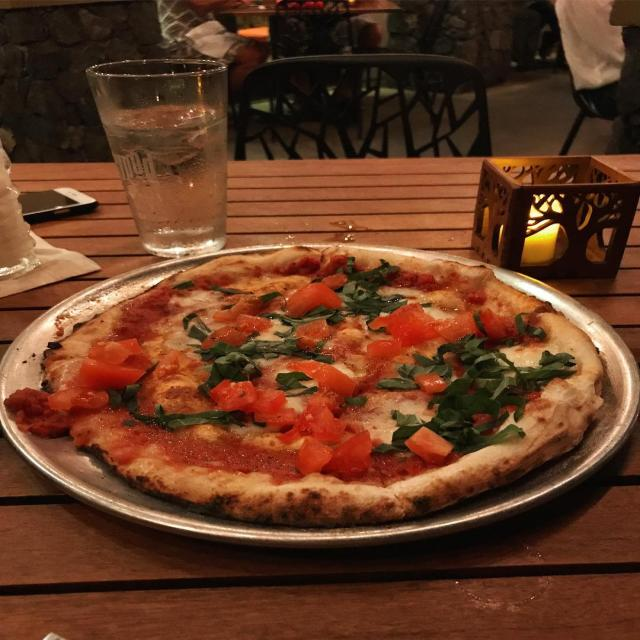pizza: (8, 245, 600, 528)
tomatoes: (289, 363, 355, 408), (371, 304, 440, 341), (75, 358, 146, 389), (283, 283, 342, 316), (404, 426, 454, 464), (332, 430, 372, 473), (209, 377, 255, 412), (47, 388, 111, 411), (88, 339, 143, 364), (293, 439, 332, 474), (212, 296, 261, 321), (315, 411, 348, 441), (202, 326, 246, 347), (278, 416, 312, 442), (250, 388, 288, 411), (475, 312, 507, 339), (297, 320, 329, 347), (369, 339, 403, 358), (256, 408, 296, 424), (416, 374, 446, 391), (240, 315, 272, 330), (320, 273, 348, 290)
